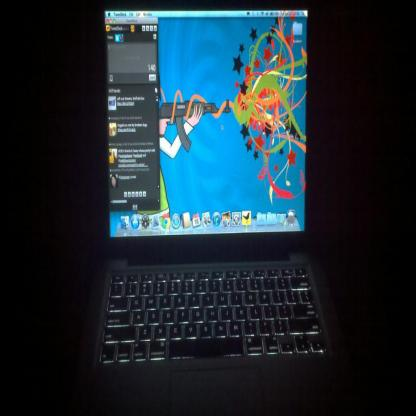board: (92, 12, 338, 413)
